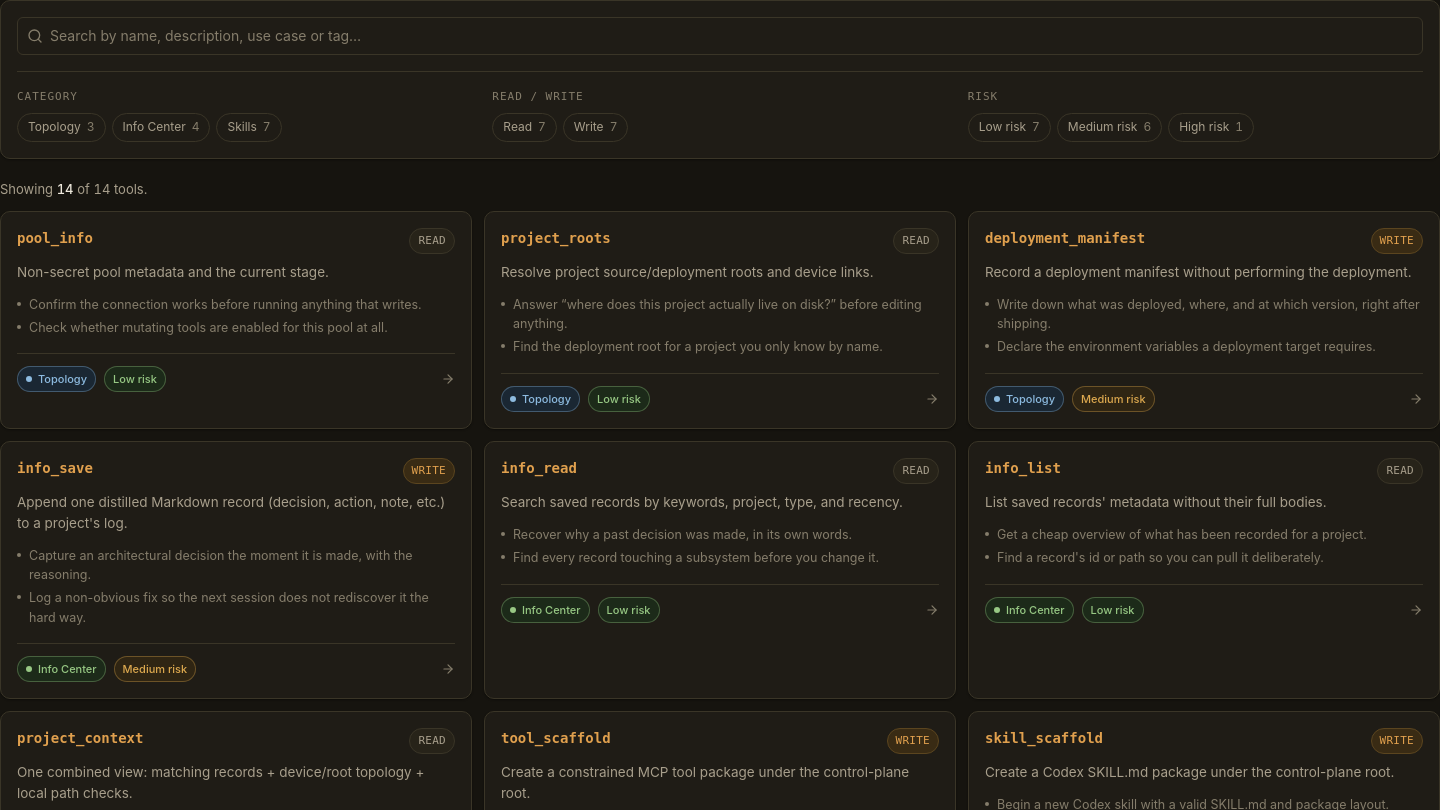
Test: CatalogBrowser — filters › announces the result count for screen readers
The image size is (1440, 810).
What coordinates should you click on to do the following:
click the checkbox labelled "Topology 3"
I would click on:
 (61, 127)
Its box is [17,113,106,142].
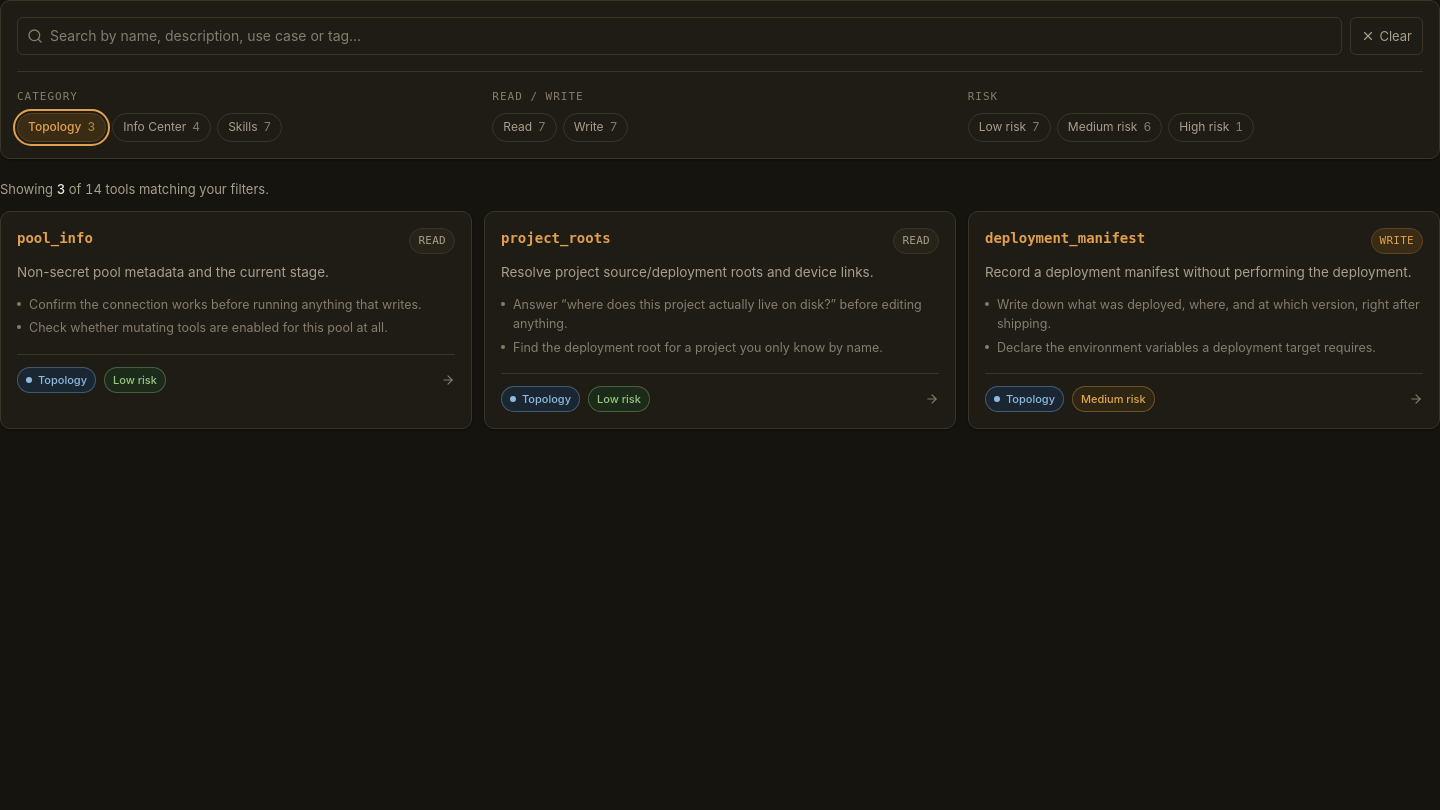
Now the text "Showing 3 of 14 tools matching your filters." is shown, box [0,181,269,197]
